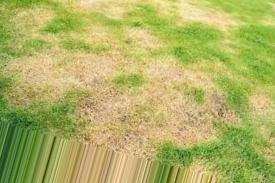patch: (97, 93, 191, 150), (45, 51, 113, 86), (149, 57, 213, 89), (178, 4, 234, 27), (81, 1, 134, 20), (20, 9, 54, 38)
